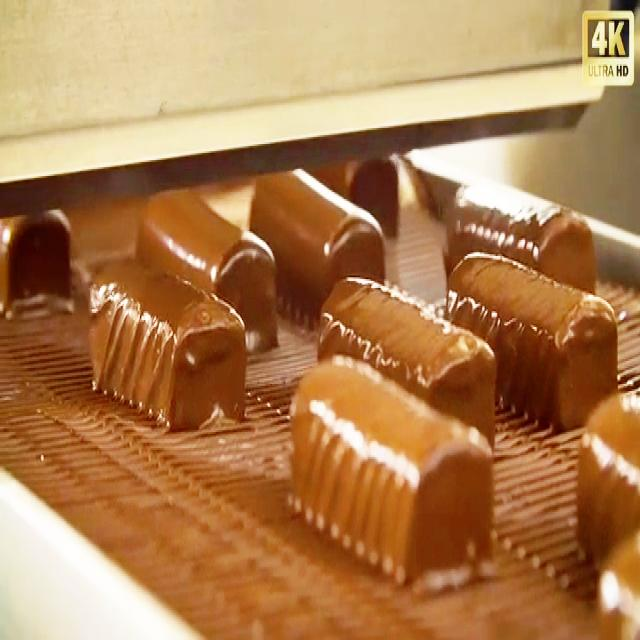Choco: (286, 350, 495, 585), (315, 270, 497, 446), (444, 247, 618, 429), (83, 252, 247, 430), (136, 183, 279, 350), (446, 165, 597, 298), (248, 163, 386, 297), (575, 388, 640, 549), (2, 213, 76, 316), (332, 164, 407, 239), (592, 526, 640, 640)
